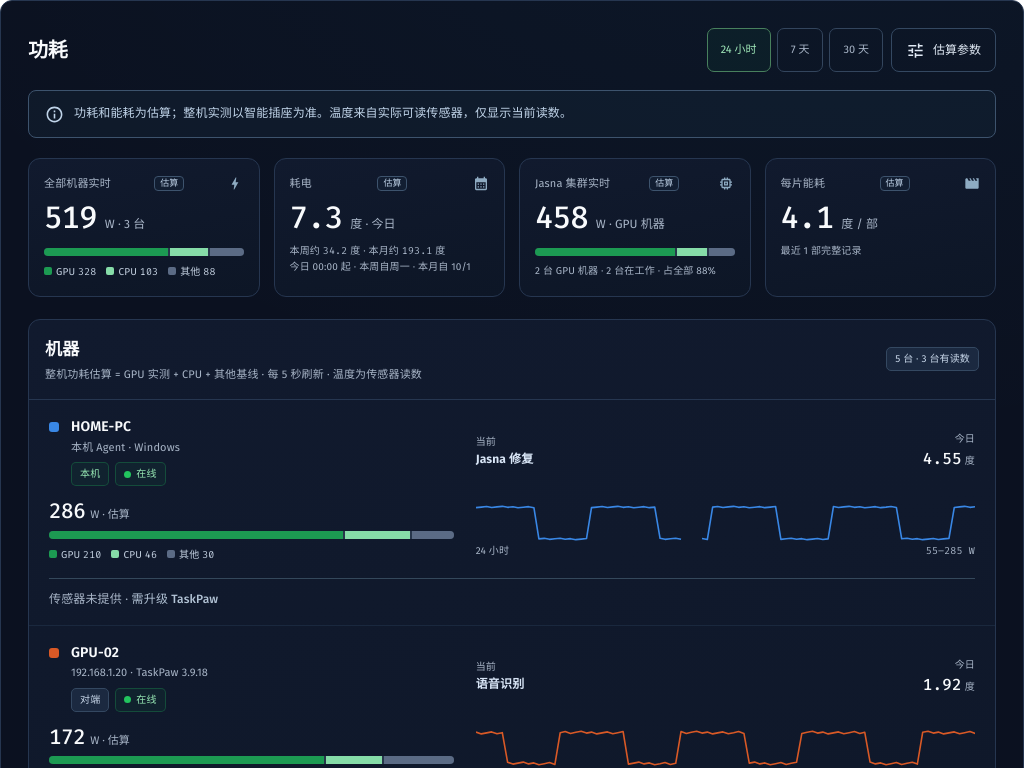
Test: 估算参数 › edits this machine's parameters with measured CPU disabled
Click the button "估算参数": (944, 50) [891,28,996,72]
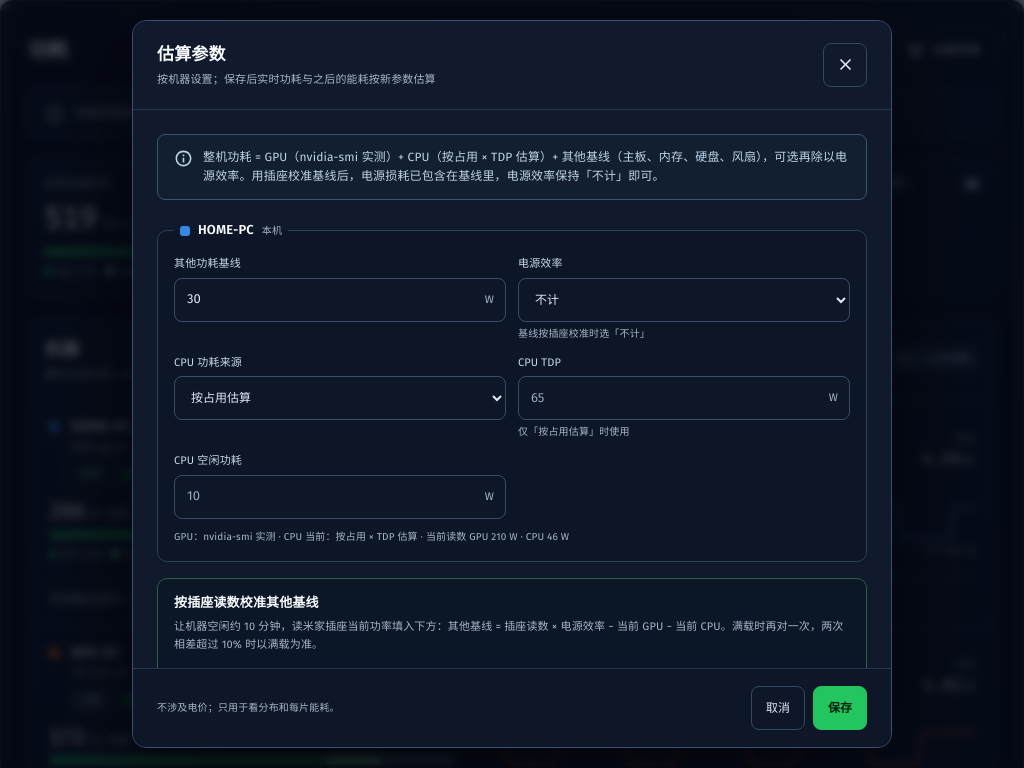
Now the heading "估算参数" is shown, box [157,44,226,65]
Now the number field labelled "其他功耗基线" holds "30", box [174,278,506,322]
Select "无" in the dropdown labelled "CPU 功耗来源": (340, 398) [174,376,506,420]
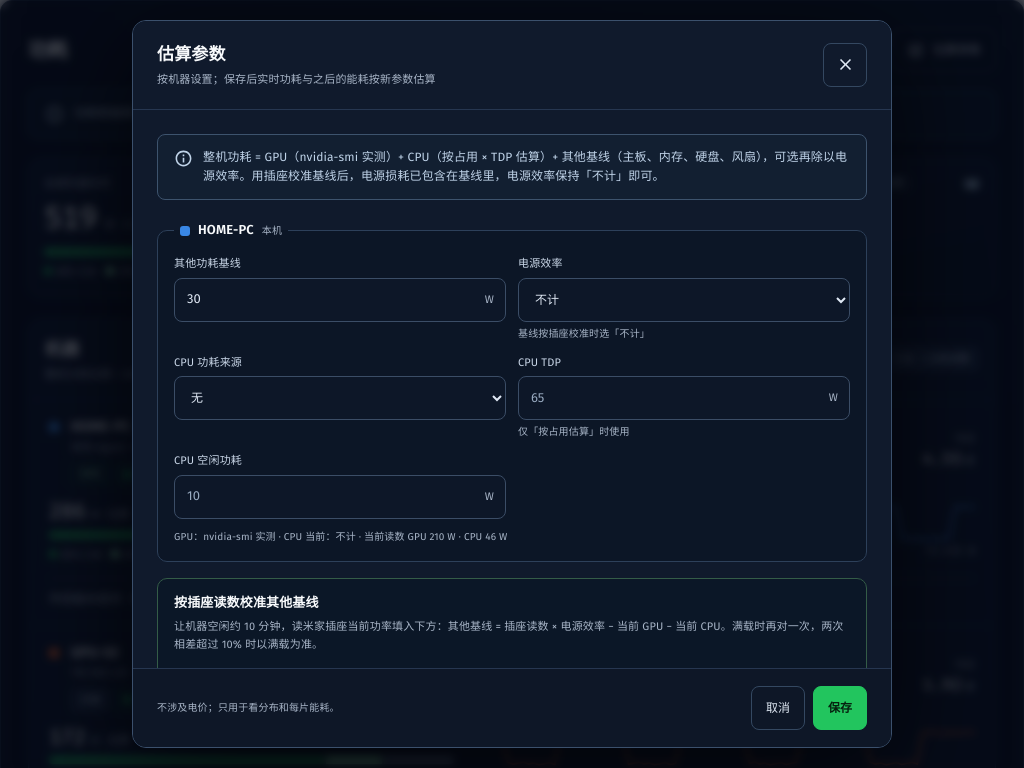
Expected: the number field labelled "CPU TDP" is disabled, [518,376,850,420]
Select "按占用估算" in the dropdown labelled "CPU 功耗来源": (340, 398) [174,376,506,420]
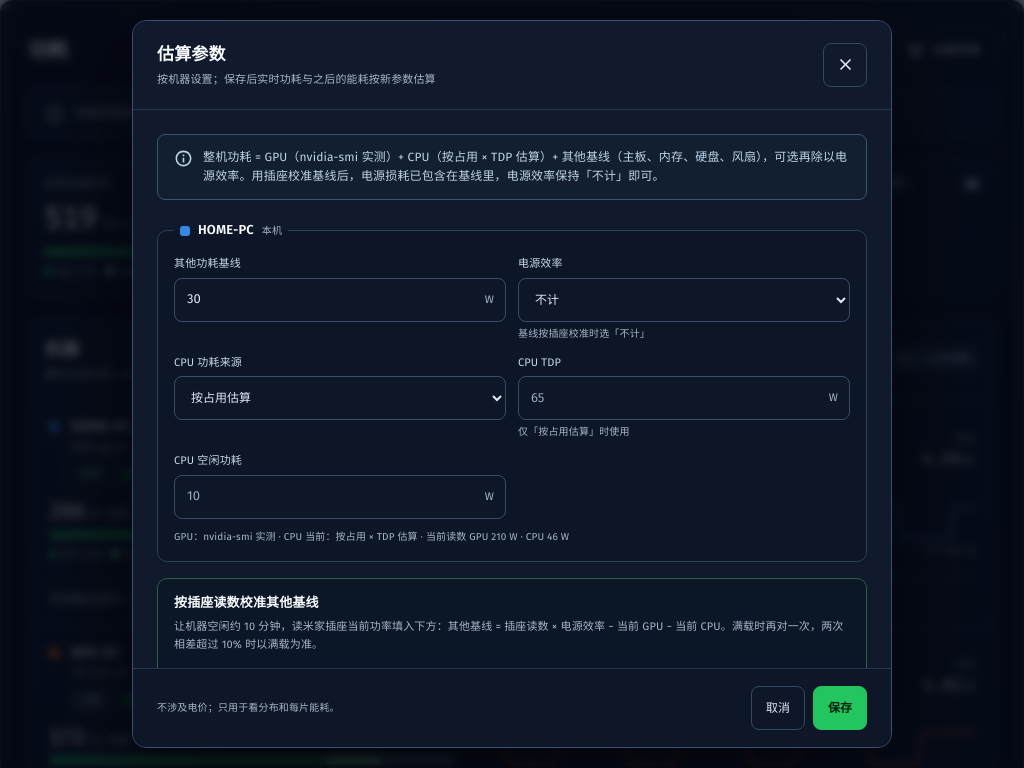
In the number field labelled "CPU TDP": (684, 398) [518,376,850,420], type "125"
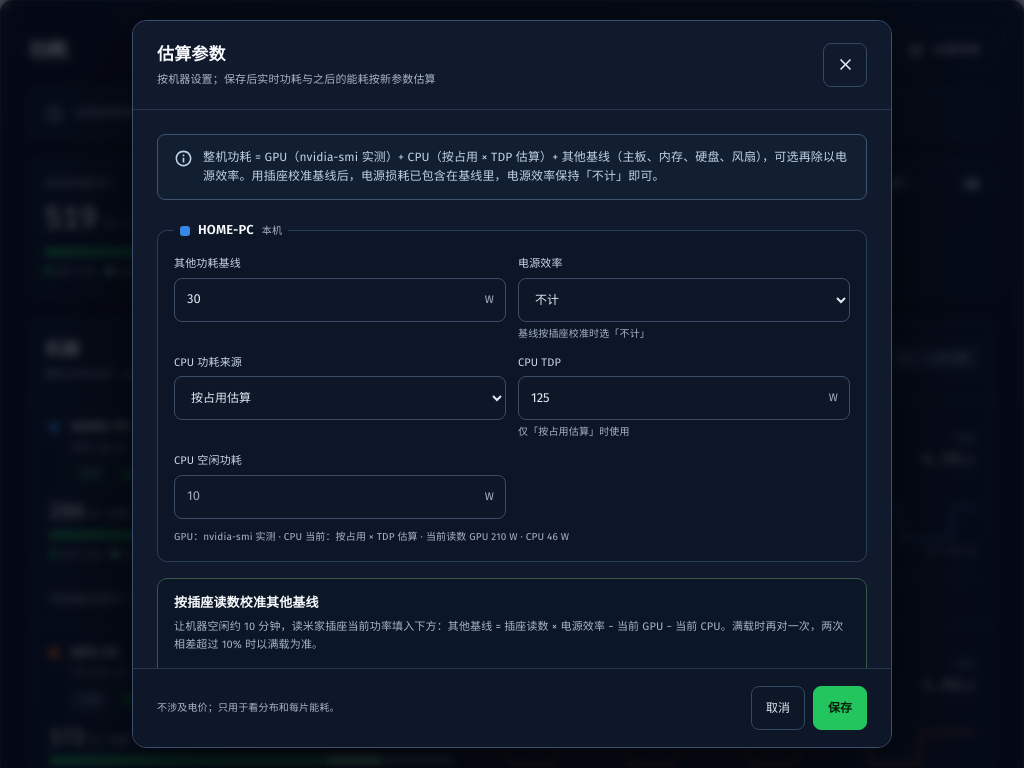
Select "90 %" in the dropdown labelled "电源效率": (684, 300) [518,278,850,322]
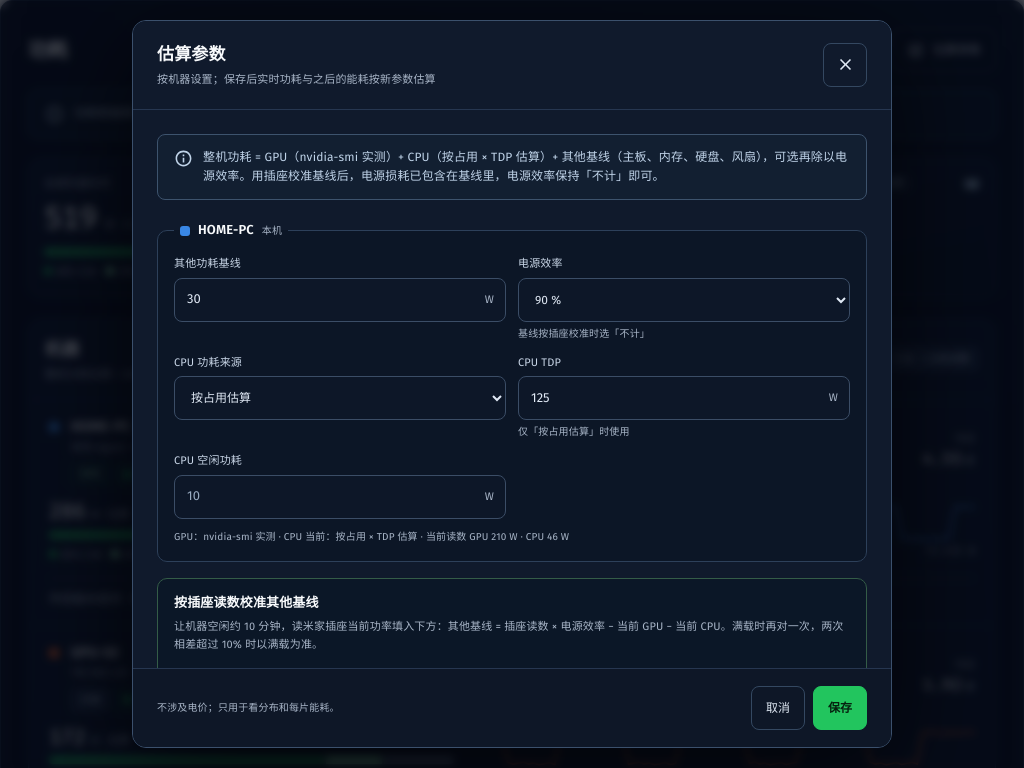
Click the button "保存": (840, 708) [813,686,867,730]
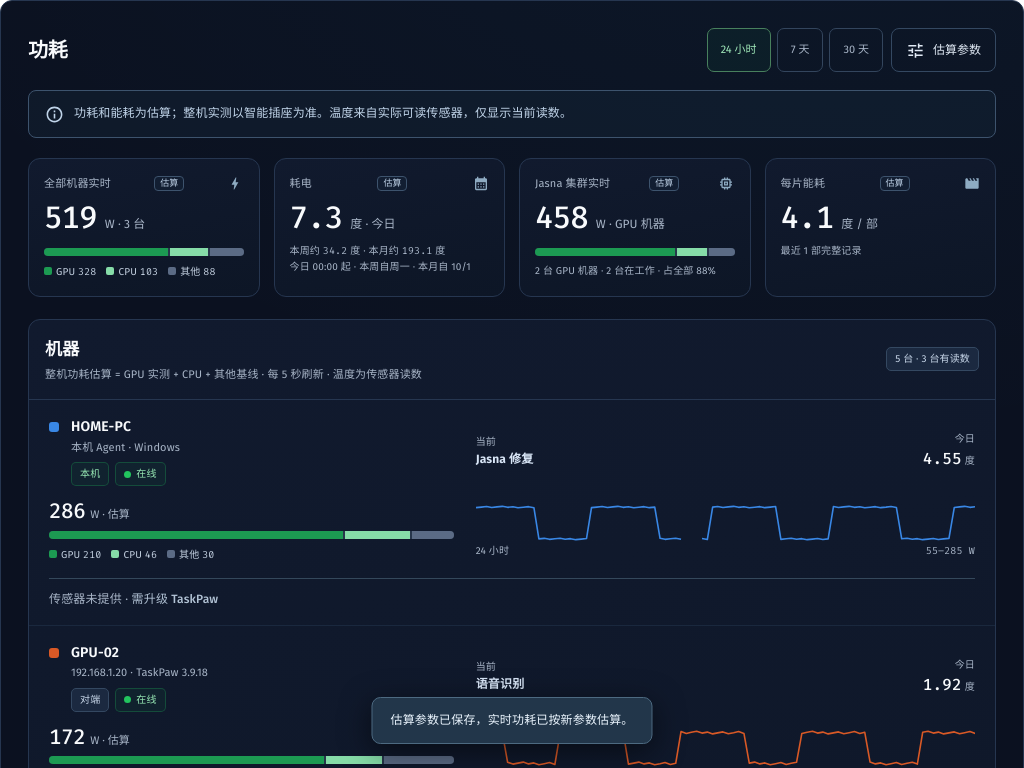
Now the text "估算参数已保存，实时功耗已按新参数估算。" is shown, box [372,697,652,744]
